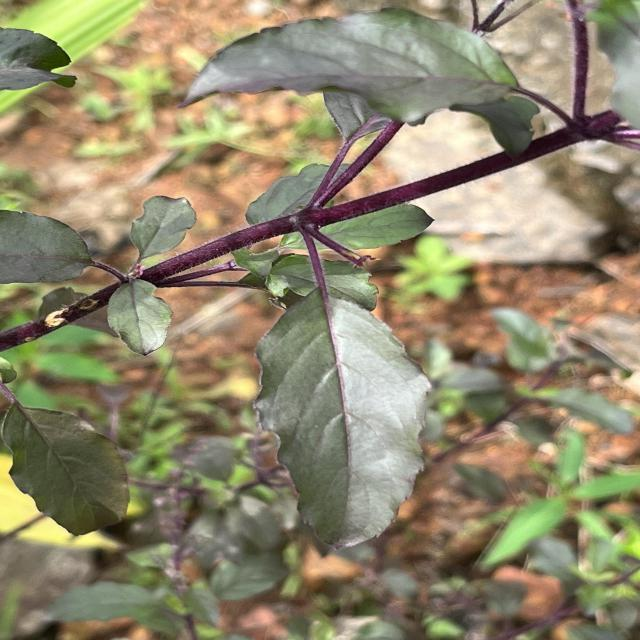Ocimum tenuiflorum: (250, 284, 434, 552)
